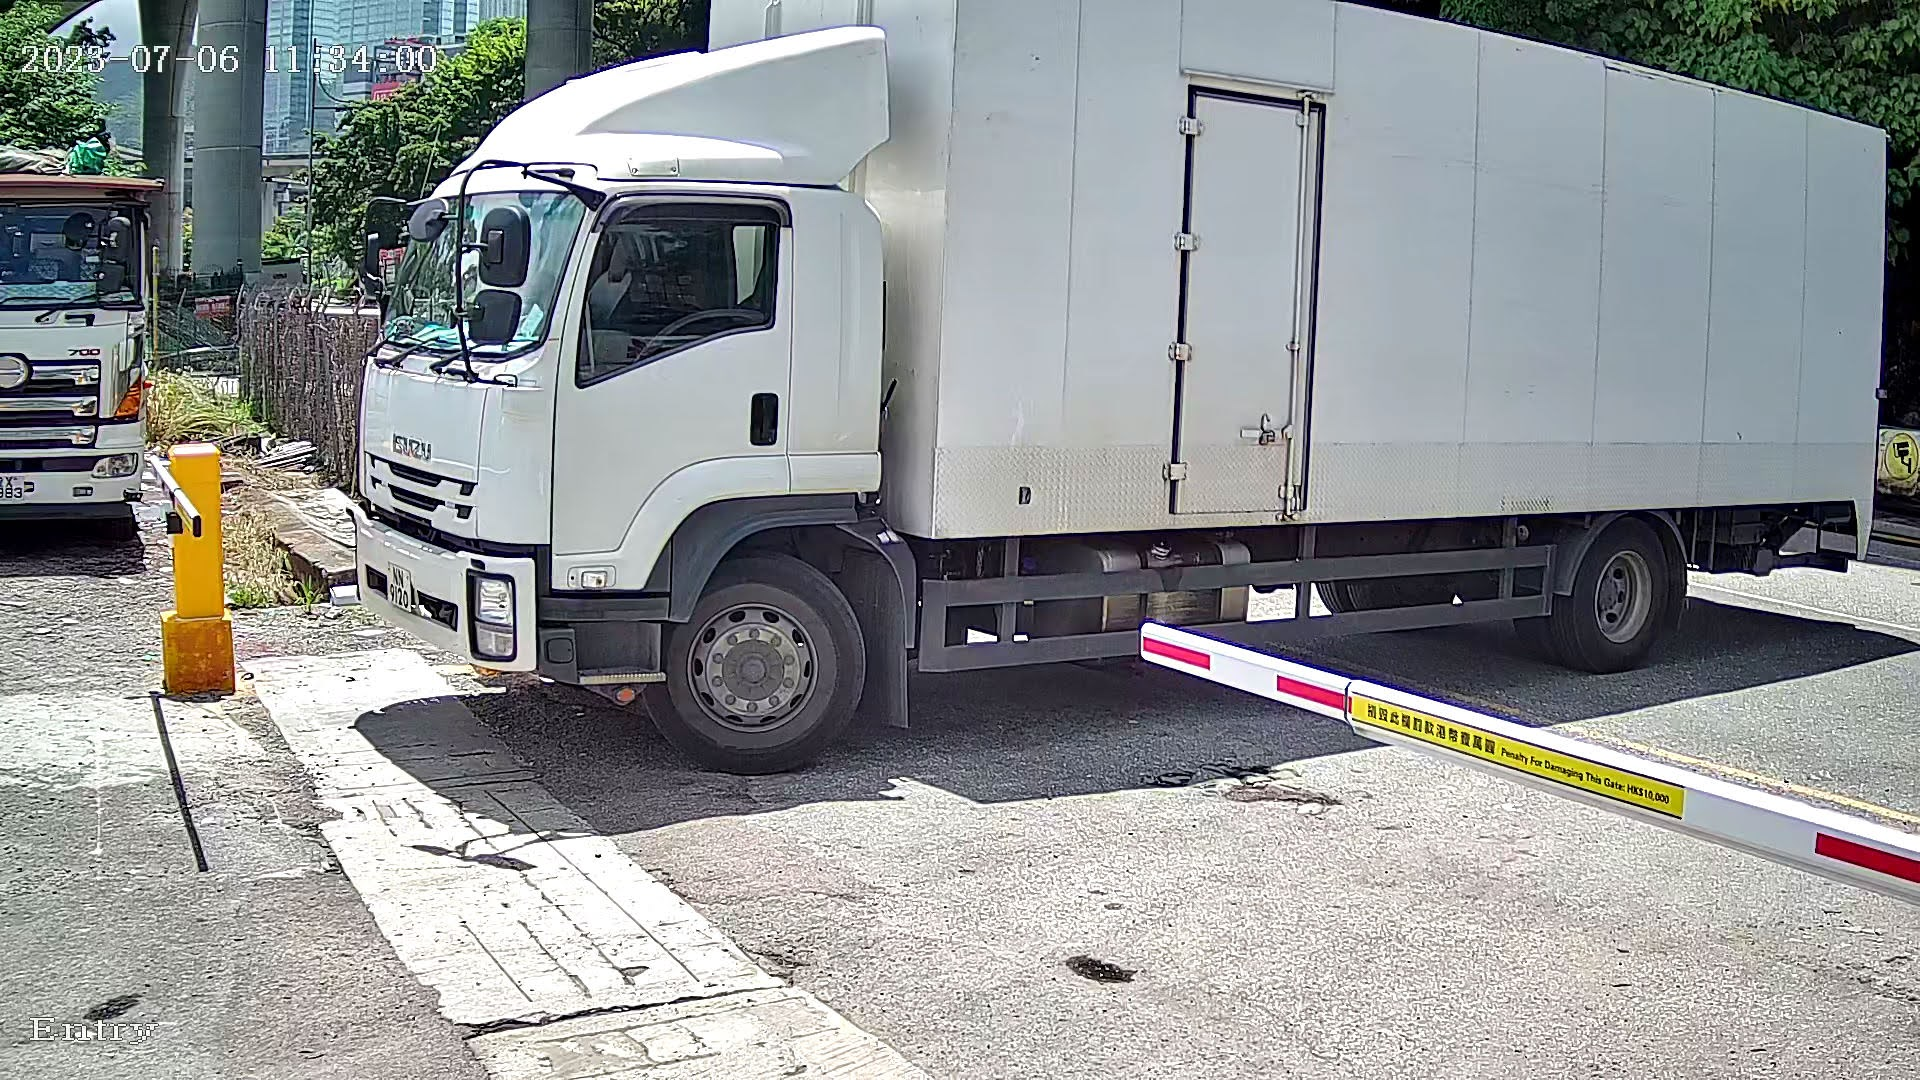truck_large: (343, 1, 1894, 812)
